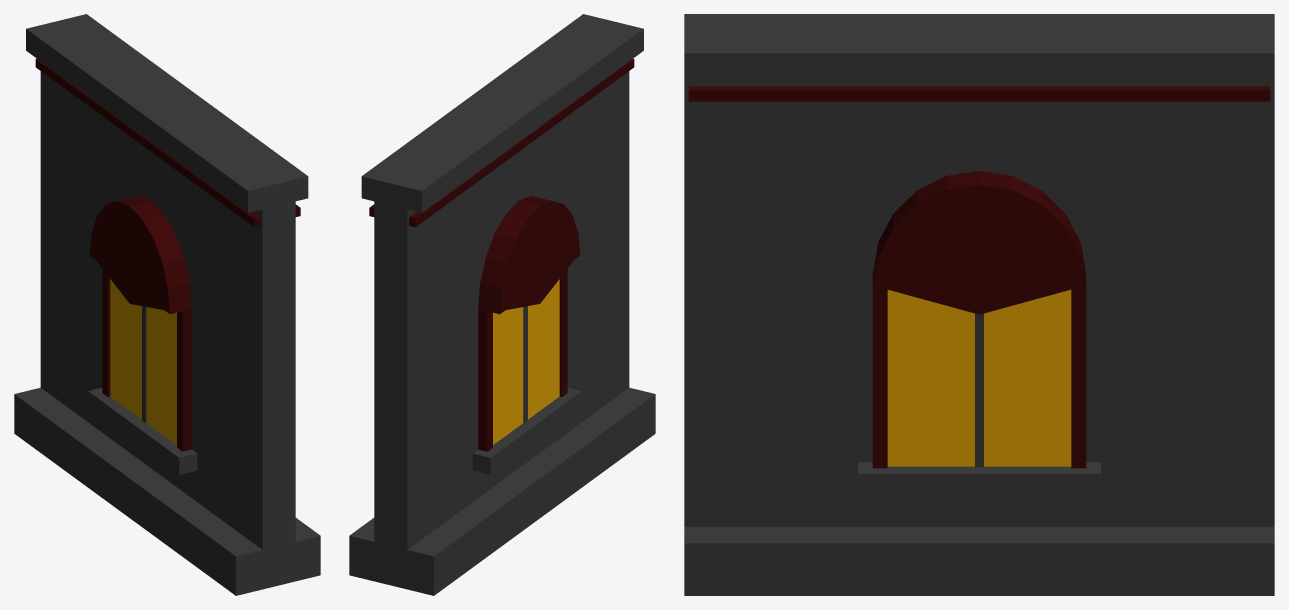
File: Wall_kikl.fbx
3 views of the same model, side by side, from view 1: azimuth 30°, elevation 25°; view 2: azimuth 150°, elevation 25°; view 3: azimuth 270°, elevation 25° (orthographic). The views are drawn at different scales.
Visible parts, largest first — view 1: Cube, Cube.002, Cube.005, Cube.001, Cube.004, Cube.003; view 2: Cube, Cube.002, Cube.005, Cube.001, Cube.004, Cube.003; view 3: Cube, Cube.005, Cube.002, Cube.004, Cube.001, Cube.003.
Boxes of the visible parts, box(x1,y1,x2,y2) form: Cube: box(14, 14, 320, 595); Cube.002: box(89, 196, 191, 451); Cube.005: box(110, 279, 176, 444); Cube.001: box(88, 387, 197, 474); Cube.004: box(35, 58, 300, 227); Cube.003: box(142, 306, 146, 423); Cube: box(349, 14, 655, 595); Cube.002: box(478, 196, 580, 451); Cube.005: box(493, 279, 559, 444); Cube.001: box(472, 387, 581, 474); Cube.004: box(369, 58, 634, 227); Cube.003: box(523, 306, 527, 423); Cube: box(684, 14, 1274, 595); Cube.005: box(887, 289, 1071, 466); Cube.002: box(872, 170, 1086, 468); Cube.004: box(688, 86, 1270, 101); Cube.001: box(858, 462, 1100, 496); Cube.003: box(975, 313, 983, 467).
Bounding box in the file's own units: 245 × 1112 × 1112.
